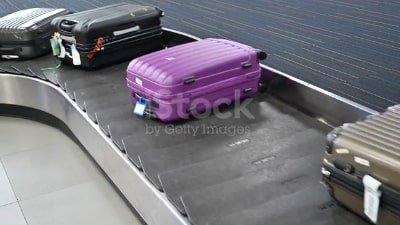baggage: (122, 36, 277, 126), (319, 100, 400, 225), (47, 1, 169, 71), (1, 4, 76, 62)
